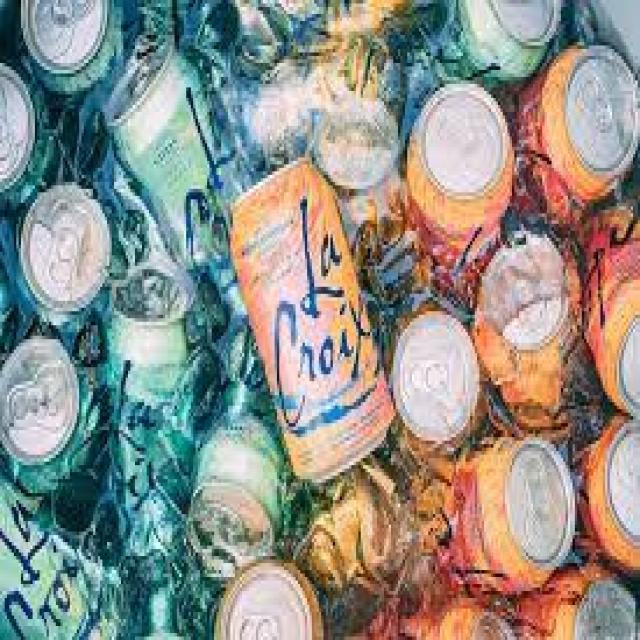Cans: (221, 154, 400, 472)
